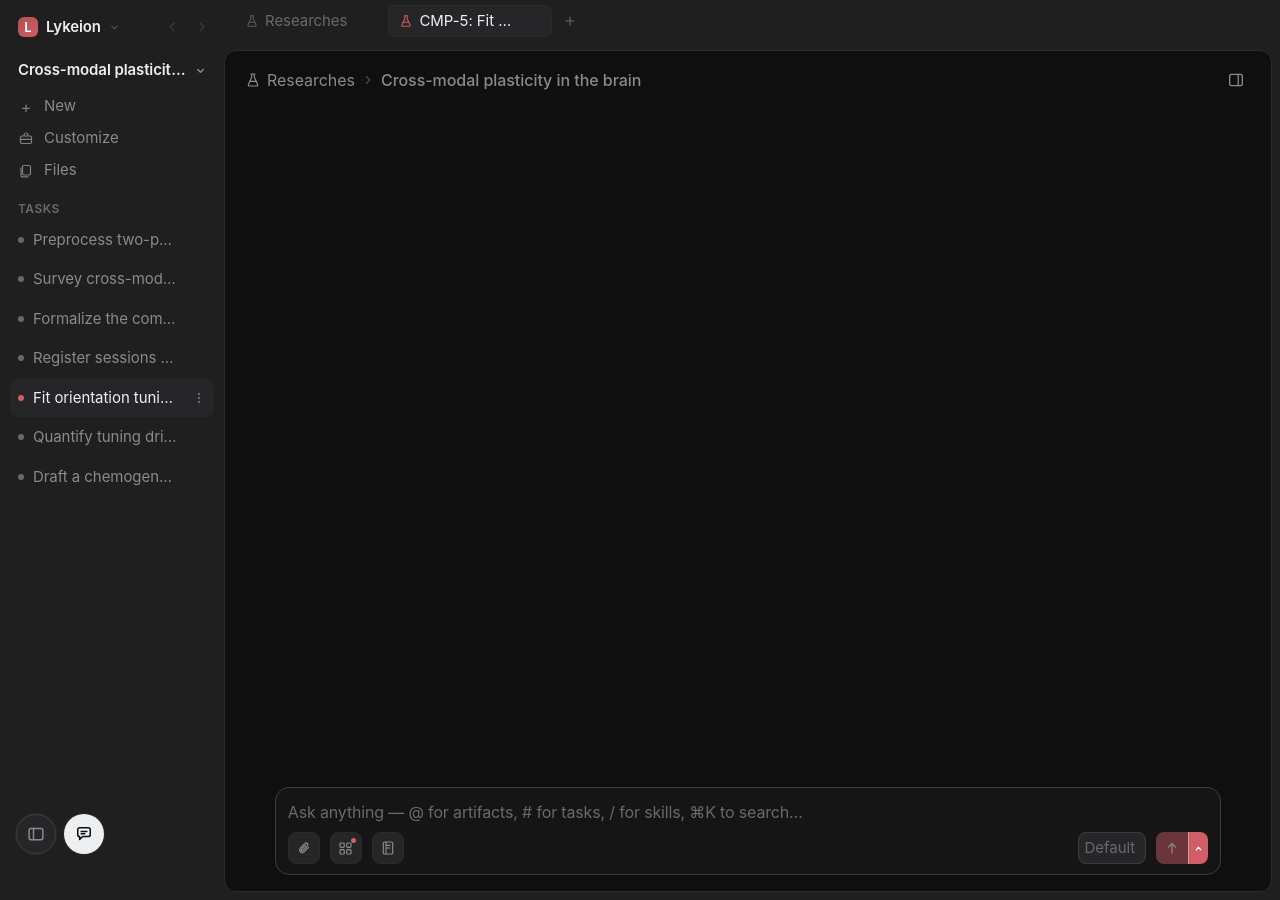
Test: a Task with nothing said in it yet › opens on the conversation, not on an entry surface
Type "analyze the traces" into the text box named "Message the agent". click: (748, 812)
box: [288,800,1208,824]
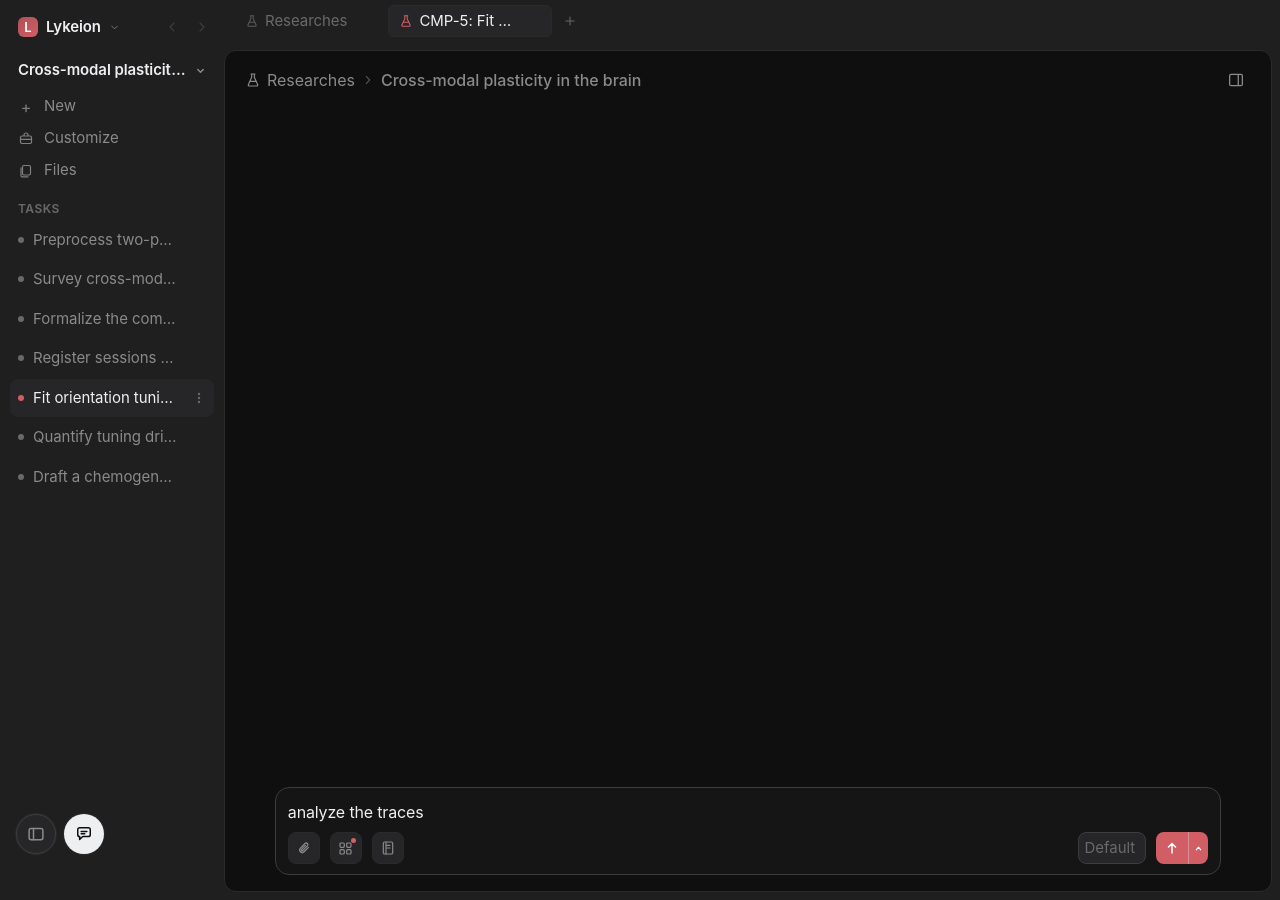
Click the button named "Send". click: (1172, 848)
box: [1156,832,1188,864]
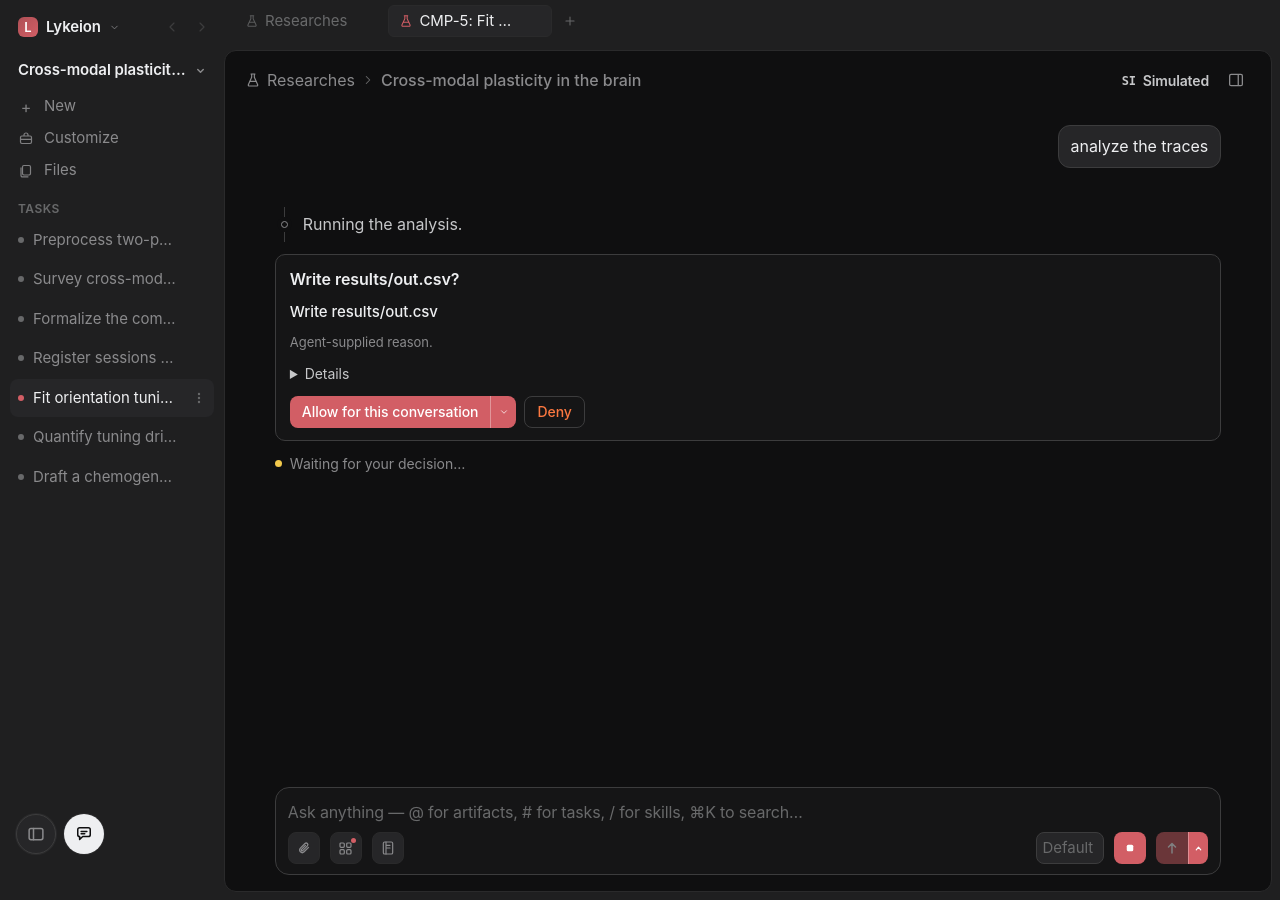
Check: the text "analyze the traces" is shown, box [1058,125,1221,168]
Check: the button "Allow for this conversation" is shown, box [290,396,490,428]
